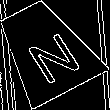N_NW: (12, 19, 79, 82)
